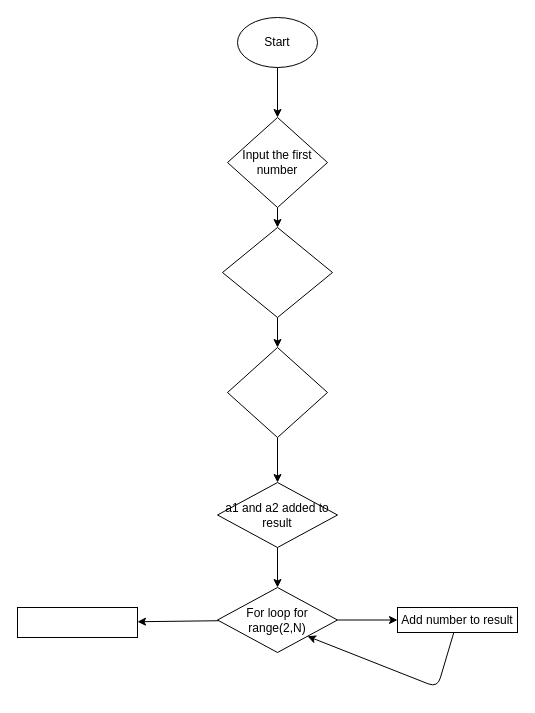
This 535x713 diagram has some shape labels left out. Each missing label, with the box of its shape:
Input number of sequences: (226, 346, 328, 438)
Input the second number: (222, 226, 332, 318)
